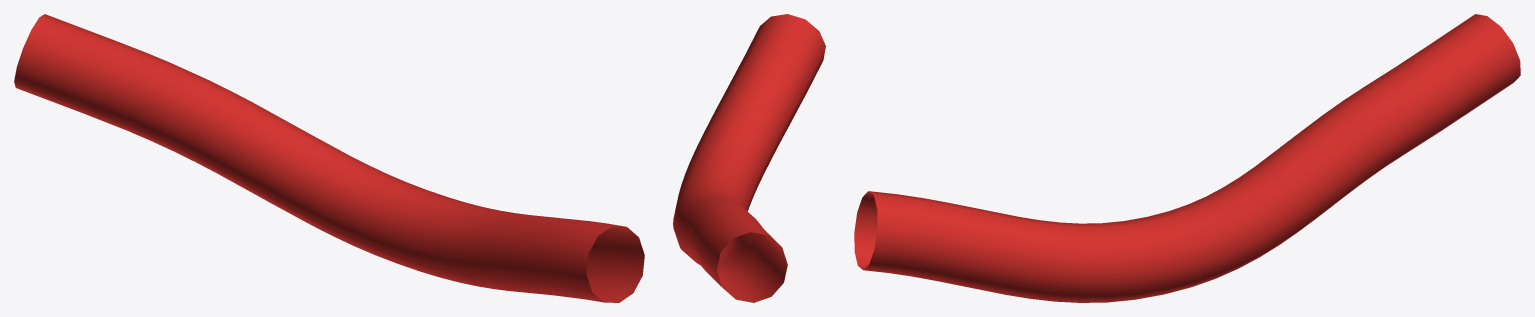
Rendered from circulatorio-posterior-communicating-artery-l.glb.
3 views of the same model, side by side, from view 1: azimuth 30°, elevation 25°; view 2: azimuth 150°, elevation 25°; view 3: azimuth 270°, elevation 25° (orthographic). The views are drawn at different scales.
Visible parts, largest first — view 1: Posterior communicating artery.l; view 2: Posterior communicating artery.l; view 3: Posterior communicating artery.l.
Boxes of the visible parts, left/top/right/bottom form: Posterior communicating artery.l: left=14, top=14, right=644, bottom=302; Posterior communicating artery.l: left=673, top=14, right=825, bottom=302; Posterior communicating artery.l: left=854, top=14, right=1520, bottom=302.
Bounding box in the file's own units: 0.00721 × 0.00364 × 0.0126.
